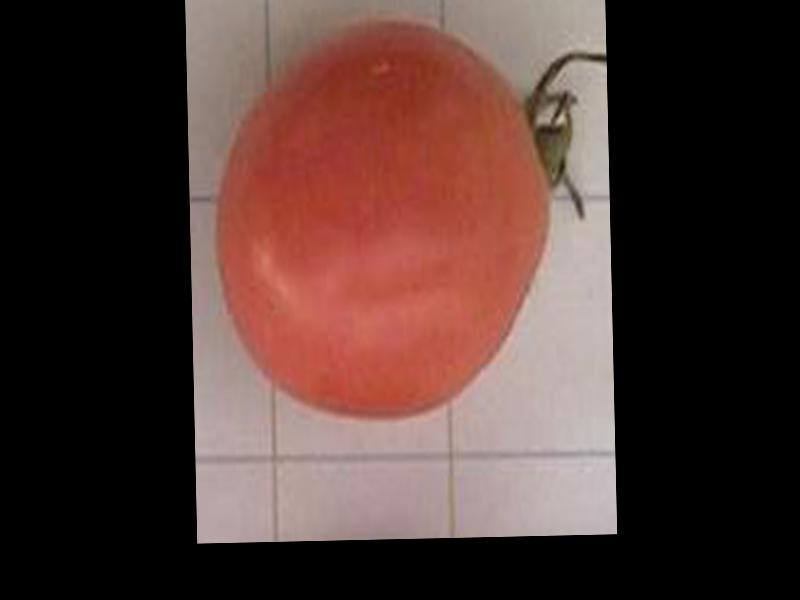Tomato: (211, 17, 554, 422)
